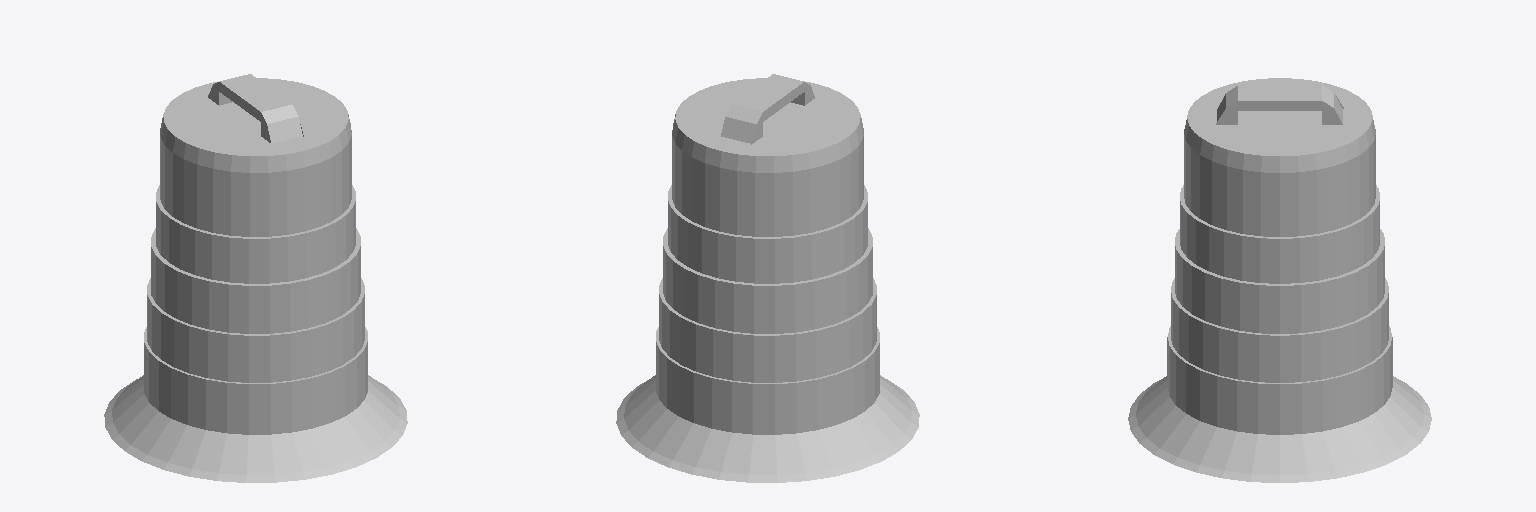
Rendered from traffic_drum.obj.
3 renders of one model, left to right at view 1: azimuth 30°, elevation 25°; view 2: azimuth 150°, elevation 25°; view 3: azimuth 270°, elevation 25°, orthographic.
Visible parts, largest first — view 1: Cylinder, Plane.001; view 2: Cylinder, Plane.001; view 3: Cylinder, Plane.001.
Part boxes in pixels (x1,y1,x2,y2): Cylinder: (104, 78, 407, 482); Plane.001: (208, 74, 303, 143); Cylinder: (616, 78, 919, 482); Plane.001: (721, 74, 814, 144); Cylinder: (1128, 78, 1431, 482); Plane.001: (1216, 85, 1343, 124).
Size of the model in its own units: 2.11 by 2.49 by 2.11.